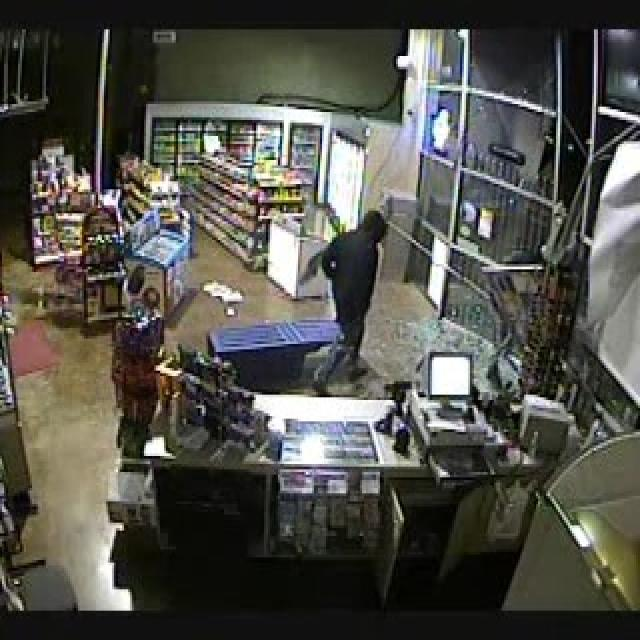thief: (352, 202, 404, 282)
